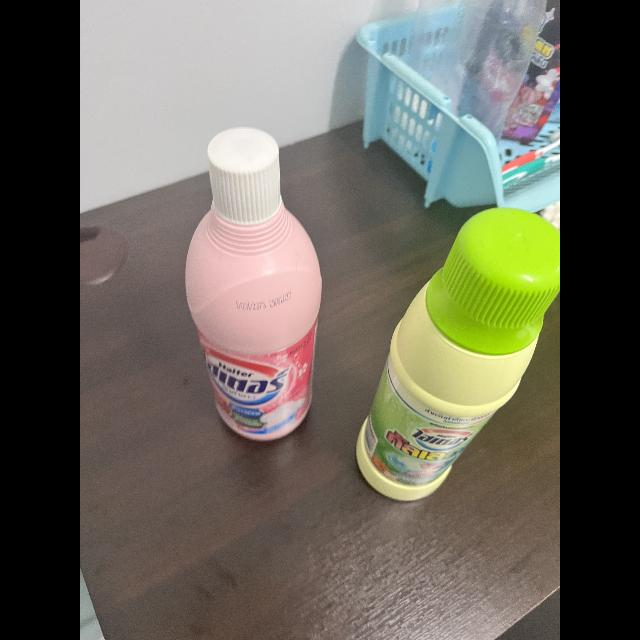chemical_plastic_bottle: (346, 206, 560, 502), (180, 123, 322, 449)
